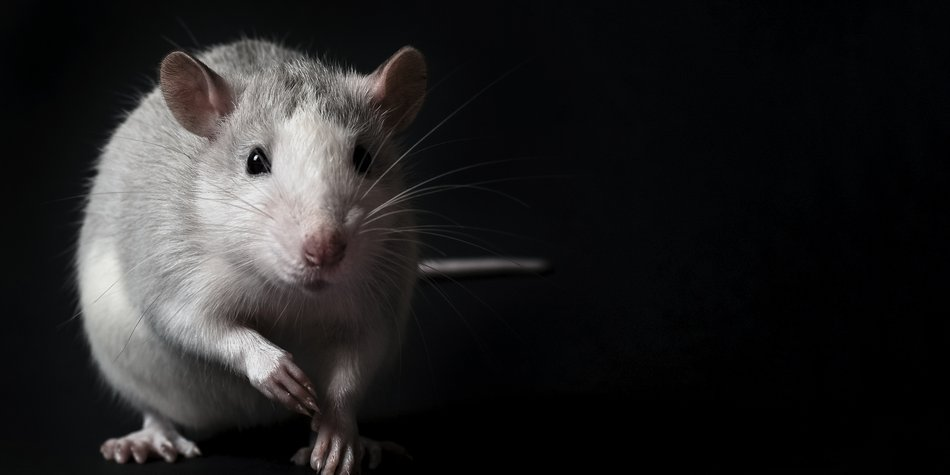rat: (53, 20, 486, 475)
